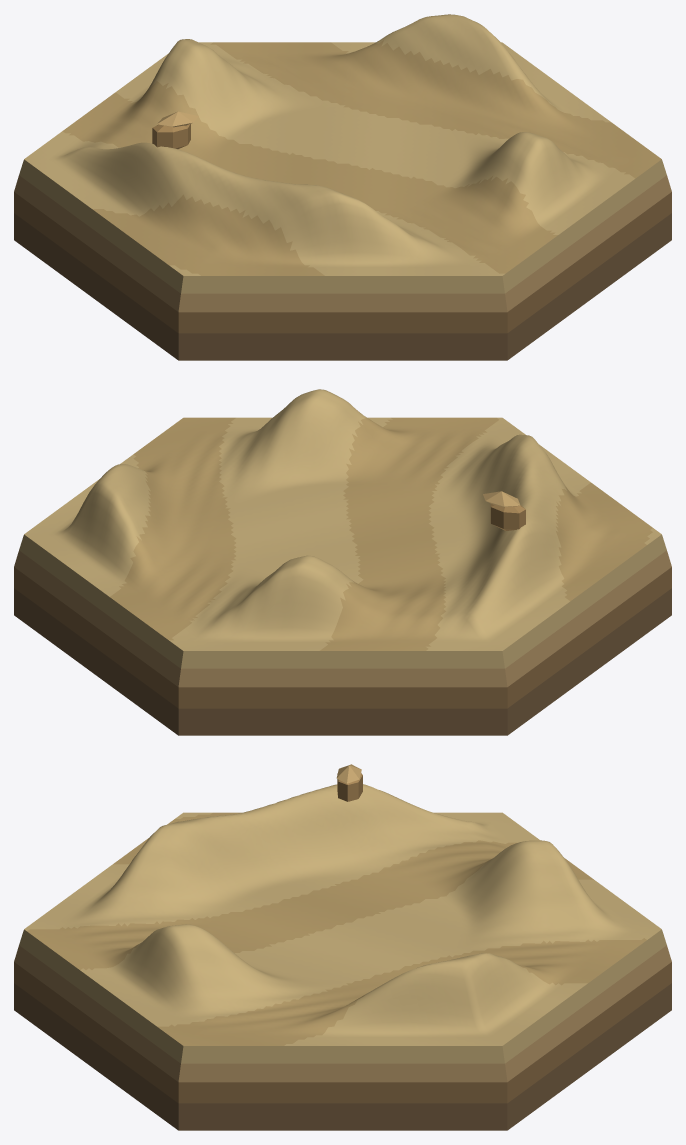
File: catan_terrain_desert_02.glb
The picture shows the model from 3 angles, top to bottom: view 1: azimuth 30°, elevation 25°; view 2: azimuth 150°, elevation 25°; view 3: azimuth 270°, elevation 25°; orthographic projection.
Parts seen in each view (by area): view 1: catan_terrain_desert_02_ground, catan_terrain_desert_02_decoration; view 2: catan_terrain_desert_02_ground, catan_terrain_desert_02_decoration; view 3: catan_terrain_desert_02_ground, catan_terrain_desert_02_decoration.
Boxes of the visible parts, x1,y1,x2,y2 form: catan_terrain_desert_02_ground: (14,14,671,360); catan_terrain_desert_02_decoration: (152,111,198,148); catan_terrain_desert_02_ground: (14,389,671,735); catan_terrain_desert_02_decoration: (483,491,525,530); catan_terrain_desert_02_ground: (14,784,671,1130); catan_terrain_desert_02_decoration: (336,764,362,801).
Size of the model in its own units: 1.71 by 0.548 by 1.97.
